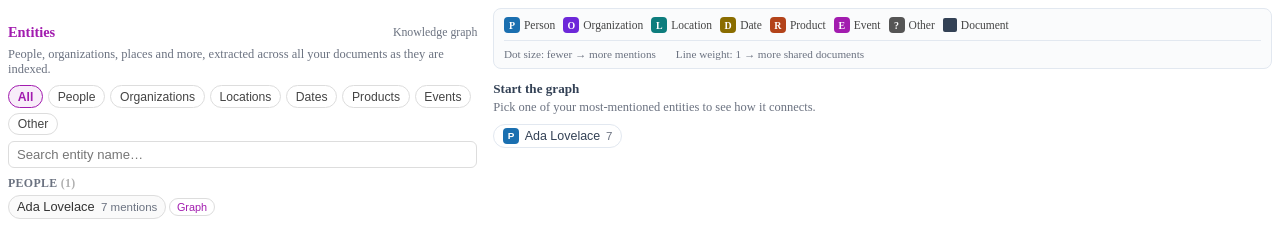
Scenario: shows a loading state while the neighborhood is fetched
Click the button with test id "entity-open-in-graph" at (192, 207), box 170,198 -> 214,216
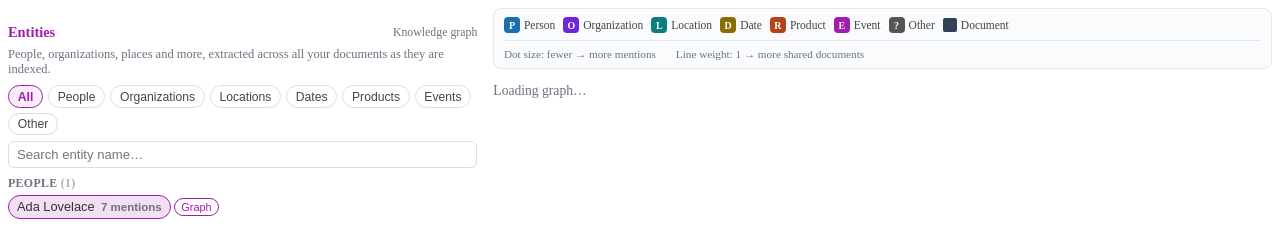
Expected: the message "Loading graph…" is shown, 493,83 -> 587,98
